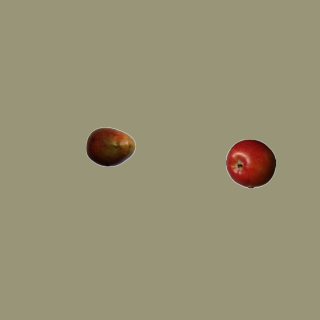Apple Braeburn: (225, 138, 275, 188)
Mango Red: (85, 121, 135, 171)
